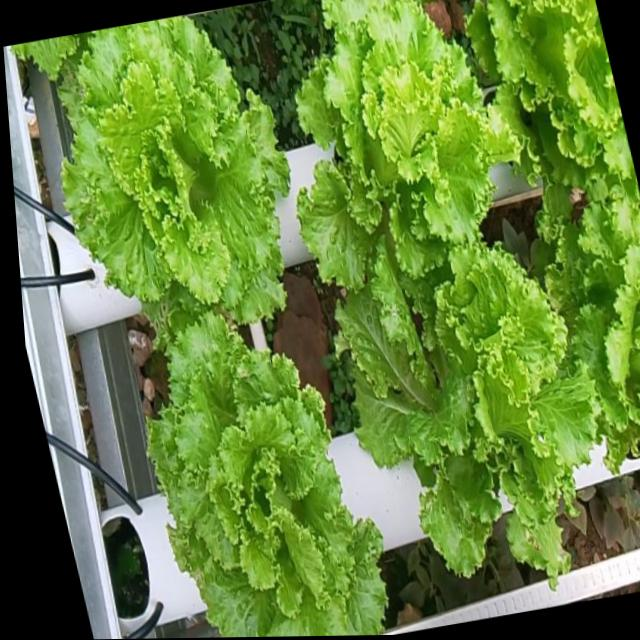Mature: (336, 231, 597, 575), (147, 310, 387, 637), (62, 16, 290, 323), (296, 0, 520, 289)
